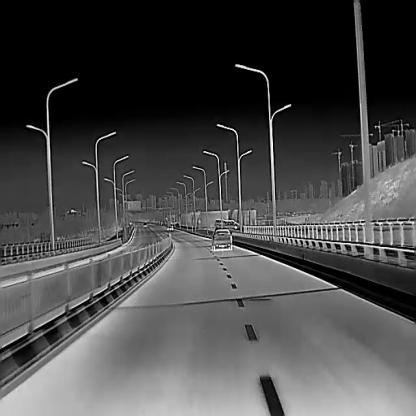car: (211, 228, 233, 249), (222, 219, 240, 228), (214, 217, 223, 227), (224, 223, 236, 228), (166, 223, 173, 231)
